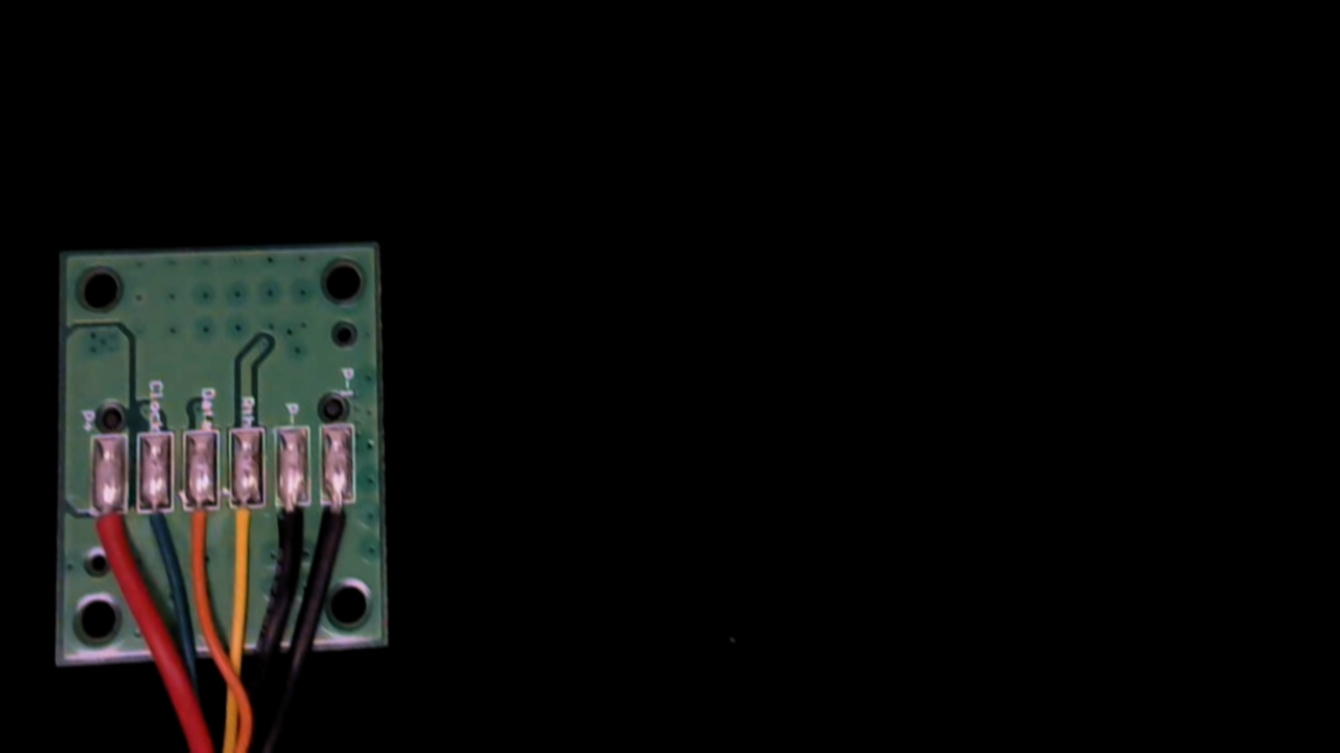Black: (273, 486, 309, 566)
Black1: (317, 485, 356, 568)
Green: (133, 491, 172, 563)
Orange: (179, 489, 215, 565)
Red: (85, 494, 126, 580)
Yellow: (226, 489, 266, 566)
